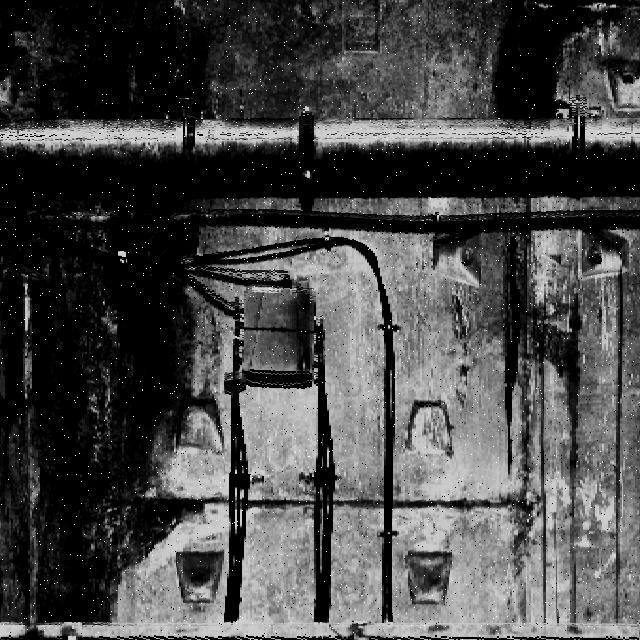leakage: (3, 1, 236, 632), (489, 195, 584, 640), (482, 1, 623, 135)
